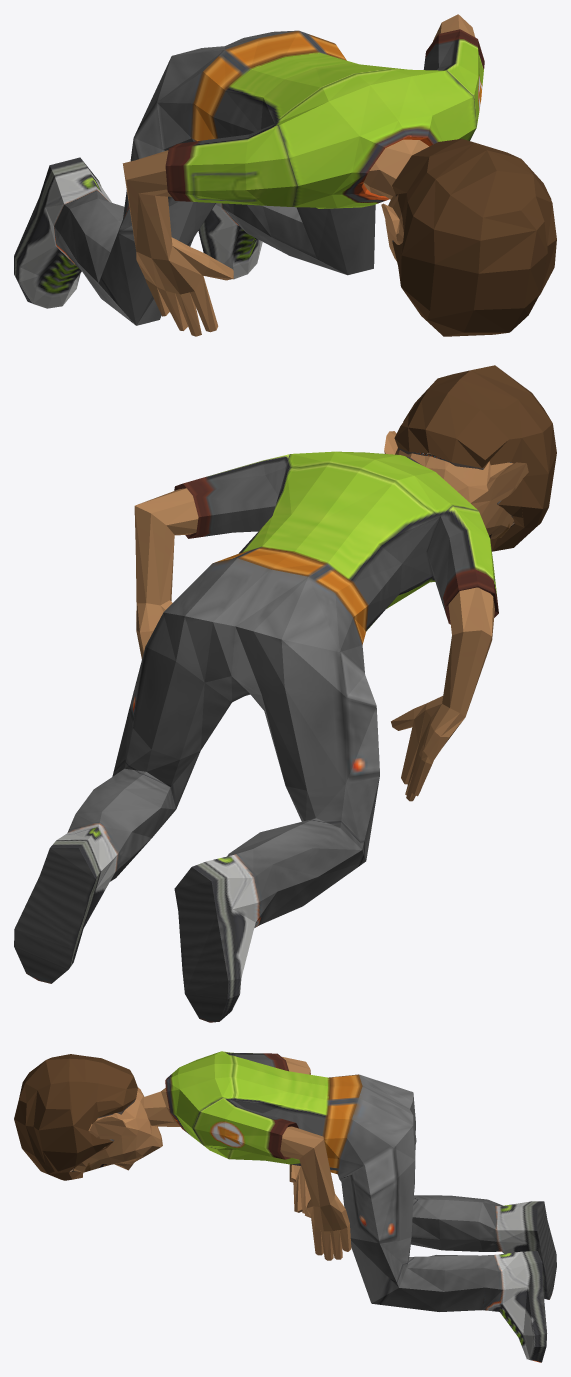
The model's file is Sitting Male 2.obj.
The picture shows the model from 3 angles, top to bottom: view 1: azimuth 30°, elevation 25°; view 2: azimuth 150°, elevation 25°; view 3: azimuth 270°, elevation 25°; orthographic projection. The views are drawn at different scales.
Parts seen in each view (by area): view 1: Object.1; view 2: Object.1; view 3: Object.1.
Part boxes in pixels (bbox=[...]): Object.1: bbox=[14, 14, 556, 336]; Object.1: bbox=[14, 365, 556, 1022]; Object.1: bbox=[14, 1051, 556, 1362].
Bounding box in the file's own units: 563 × 607 × 1098.
Materials: 1 (1 with a texture image).
